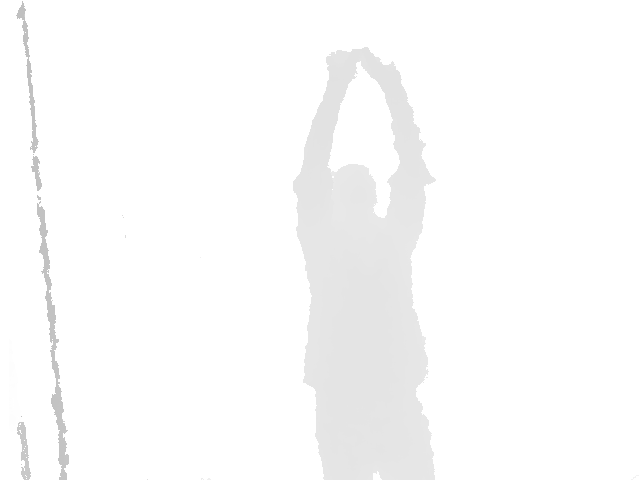hand: (356, 46, 403, 88), (326, 49, 359, 81)
head: (329, 164, 377, 220)
person: (292, 46, 438, 480)
